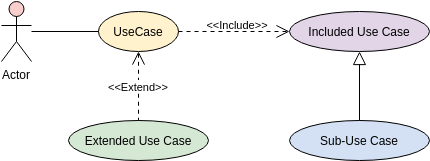actor: (1, 1, 36, 67)
association: (179, 23, 288, 40), (130, 52, 147, 121), (31, 26, 97, 37)
generalization: (353, 51, 366, 120)
text: (83, 131, 192, 149), (305, 23, 413, 40), (314, 132, 406, 150), (202, 15, 269, 31), (108, 79, 170, 94), (111, 25, 164, 41), (1, 67, 32, 83)
use_case: (287, 10, 430, 54), (288, 118, 430, 161), (66, 119, 210, 161), (97, 10, 180, 54)
